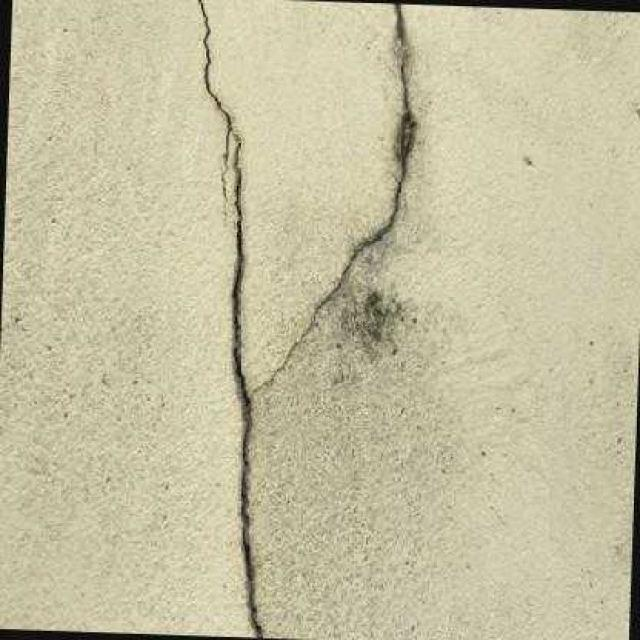D00: (196, 0, 416, 638)
